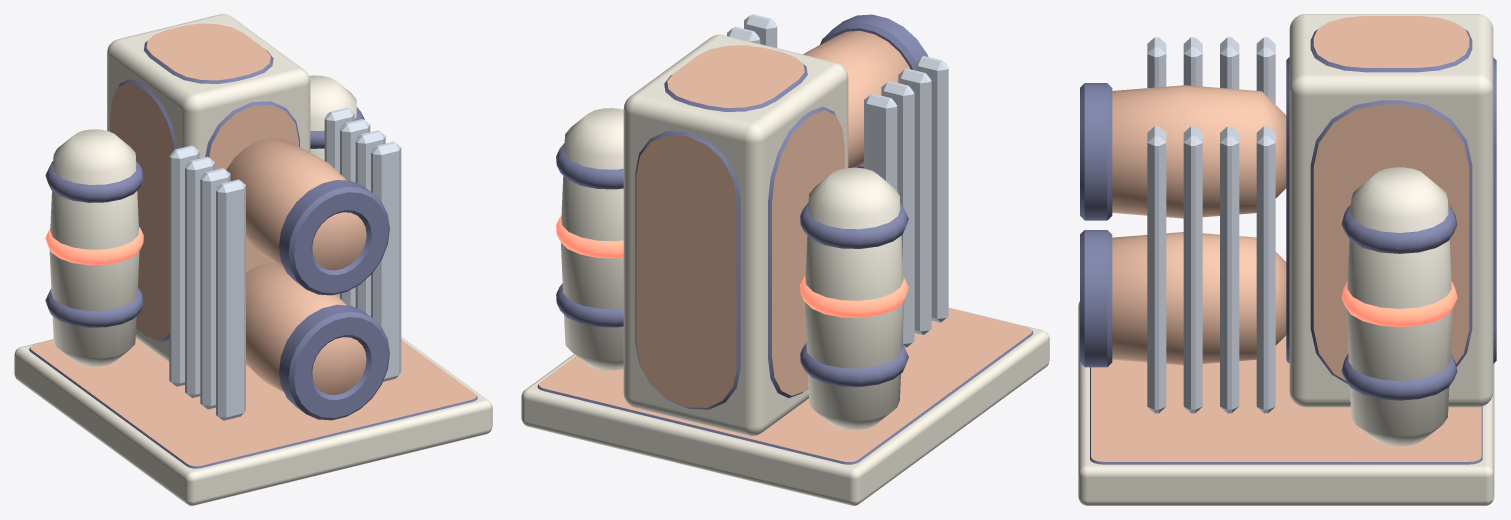
The model's file is R4X_DoubleShotOverdrive.fbx.
3 renders of one model, left to right at view 1: azimuth 30°, elevation 25°; view 2: azimuth 150°, elevation 25°; view 3: azimuth 270°, elevation 25°, orthographic. The views are drawn at different scales.
Parts seen in each view (by area): view 1: R4X_DoubleShotOverdrive_Body; view 2: R4X_DoubleShotOverdrive_Body; view 3: R4X_DoubleShotOverdrive_Body.
Boxes of the visible parts, x1,y1,x2,y2 form: R4X_DoubleShotOverdrive_Body: (14,14,492,505); R4X_DoubleShotOverdrive_Body: (521,14,1049,505); R4X_DoubleShotOverdrive_Body: (1078,14,1496,505).
Bounding box in the file's own units: 0.514 × 0.52 × 0.517.
